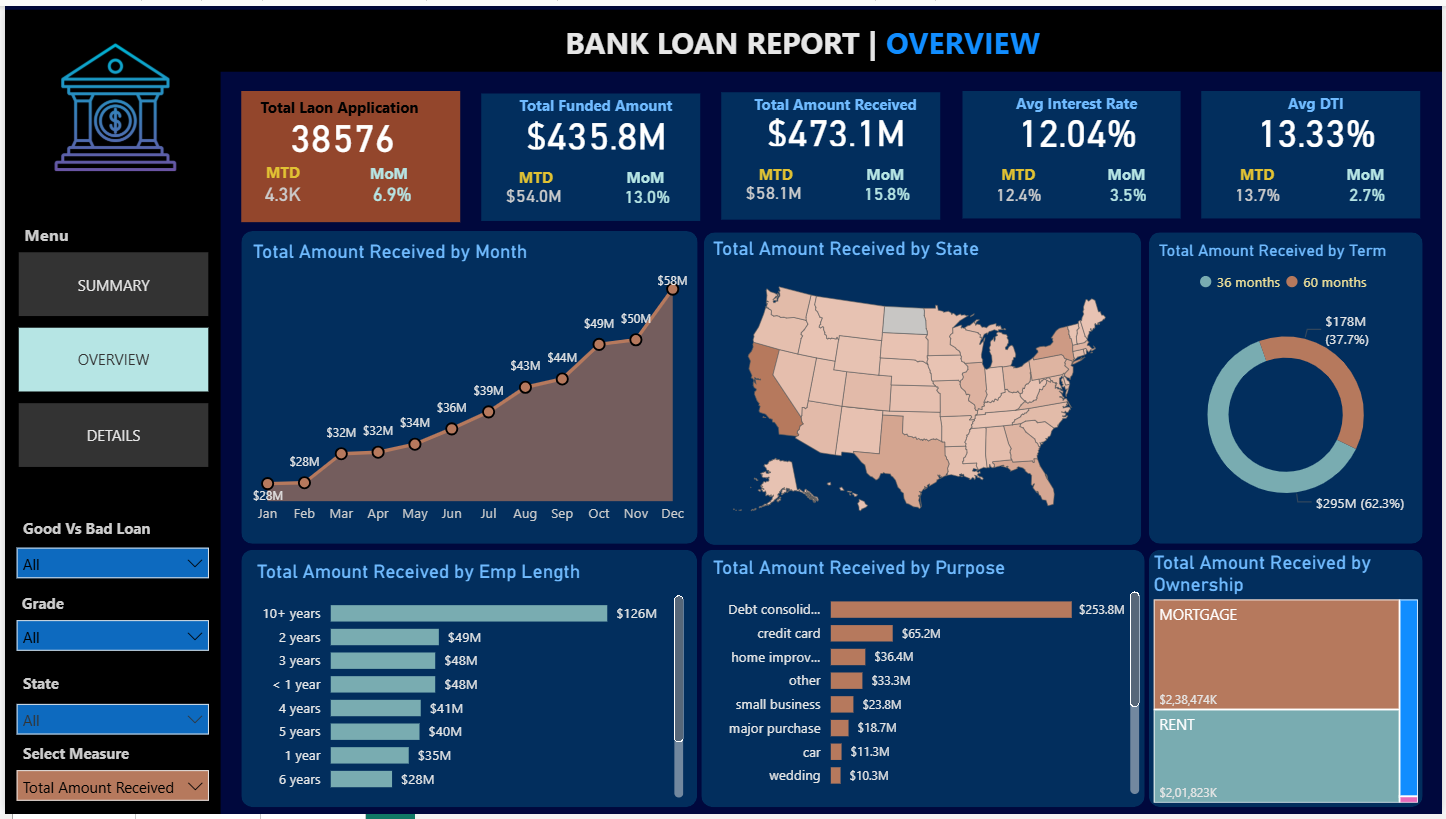

The page's visual inventory and layout, read from the dashboard file:
{"tool":"powerbi","page":{"name":"OVERVIEW","canvas":[1280,720],"ordinal":1},"visuals":[{"type":"shape","box":[0,3.6,1280,55.5],"z":0},{"type":"group","id":"g1","title":"Group 3","box":[423.6,75.1,195.4,117],"z":0,"group":"g14"},{"type":"shape","box":[210.1,76.3,195,117],"z":0,"group":"g16"},{"type":"shape","box":[851.9,76.3,194.2,113.5],"z":0,"group":"g8"},{"type":"shape","box":[1065.5,76.3,195,113.5],"z":0,"group":"g15"},{"type":"shape","box":[637.2,77.4,195,113.5],"z":0,"group":"g2"},{"type":"shape","box":[423.6,78.7,195,113.5],"z":0,"group":"g1"},{"type":"card","fields":{"Values":["Measure.MTD For Amount"]},"box":[653.2,150.6,62.7,34.4],"z":0,"group":"g4"},{"type":"card","fields":{"Values":["Measure.MTD For Int Rate"]},"box":[870.3,151.4,62.7,35.1],"z":0,"group":"g5"},{"type":"card","fields":{"Values":["Measure.MTD For DTI"]},"box":[1084.4,151.4,63,35.1],"z":0,"group":"g6"},{"type":"card","fields":{"Values":["bank_loan_db bank_loan.MTD For Applications"]},"box":[220,151.8,54.3,33.8],"z":0,"group":"g3"},{"type":"card","fields":{"Values":["Measure.MTD For Fund"]},"box":[439.7,153.4,63,35.1],"z":0,"group":"g7"},{"type":"card","fields":{"Values":["Measure.MoM For Application"]},"box":[317.6,154.2,53.1,29],"z":0,"group":"g9"},{"type":"card","fields":{"Values":["Measure.MoM For Amount"]},"box":[758.6,154.7,53.1,27.5],"z":0,"group":"g10"},{"type":"card","fields":{"Values":["Measure.MoM For Int Rate"]},"box":[973.3,155.1,53.1,28.1],"z":0,"group":"g11"},{"type":"card","fields":{"Values":["Measure.MoM For DTI"]},"box":[1187.4,155.1,53.3,28.1],"z":0,"group":"g12"},{"type":"card","fields":{"Values":["Measure.MoM For Fund"]},"box":[545.4,157.5,53.3,28.1],"z":0,"group":"g13"},{"type":"shape","box":[210.9,200,406.6,278.7],"z":0,"group":"g17"},{"type":"shape","box":[621.8,201.2,389.7,278.7],"z":0,"group":"g18"},{"type":"shape","box":[209.9,483.8,406,229.2],"z":0,"group":"g19"},{"type":"group","id":"g2","title":"Group 3","box":[637.2,73.9,195.4,117],"z":1000,"group":"g14"},{"type":"group","id":"g3","title":"Group 1","box":[220,134.2,54.3,51.4],"z":1000,"group":"g16"},{"type":"textbox","box":[220,134.2,54.3,30.2],"z":1000,"group":"g3"},{"type":"textbox","box":[310.4,135.4,62.7,37.4],"z":1000,"group":"g9"},{"type":"textbox","box":[751.7,135.8,62.7,35.5],"z":1000,"group":"g10"},{"type":"textbox","box":[966.4,135.8,62.7,36.3],"z":1000,"group":"g11"},{"type":"textbox","box":[1180.5,135.8,63,36.3],"z":1000,"group":"g12"},{"type":"group","id":"g4","title":"Group 1","box":[653.2,136.1,64.3,48.9],"z":1000,"group":"g2"},{"type":"textbox","box":[656,136.1,61.5,28.7],"z":1000,"group":"g4"},{"type":"group","id":"g5","title":"Group 1","box":[870.3,136.2,62.7,50.3],"z":1000,"group":"g8"},{"type":"textbox","box":[870.6,136.2,61.5,29.2],"z":1000,"group":"g5"},{"type":"group","id":"g6","title":"Group 1","box":[1084.4,136.2,63,50.3],"z":1000,"group":"g15"},{"type":"textbox","box":[1084.4,136.2,61.8,29.2],"z":1000,"group":"g6"},{"type":"textbox","box":[538.5,138.2,63,36.3],"z":1000,"group":"g13"},{"type":"group","id":"g7","title":"Group 1","box":[439.7,138.6,64.5,49.9],"z":1000,"group":"g1"},{"type":"textbox","box":[442.5,138.6,61.8,29.2],"z":1000,"group":"g7"},{"type":"shape","box":[620.1,483.8,395,229.2],"z":1000},{"type":"shape","box":[0,54.9,192,665.5],"z":2000},{"type":"group","id":"g8","title":"Group 3","box":[851.9,72.7,194.2,117],"z":2000,"group":"g14"},{"type":"group","id":"g9","title":"Group 2","box":[310.4,135.4,62.7,47.8],"z":2000,"group":"g16"},{"type":"group","id":"g10","title":"Group 2","box":[751.7,135.8,62.7,46.4],"z":2000,"group":"g2"},{"type":"group","id":"g11","title":"Group 2","box":[966.4,135.8,62.7,47.4],"z":2000,"group":"g8"},{"type":"group","id":"g12","title":"Group 2","box":[1180.5,135.8,63,47.4],"z":2000,"group":"g15"},{"type":"group","id":"g13","title":"Group 2","box":[538.5,138.2,63,47.4],"z":2000,"group":"g1"},{"type":"group","id":"g14","title":"Group 5","box":[210.1,72.7,1050.8,120.6],"z":3000},{"type":"textbox","box":[868.6,72.7,170.1,29.2],"z":3000,"group":"g8"},{"type":"group","id":"g15","title":"Group 3","box":[1065.5,72.7,195.4,117],"z":3000,"group":"g14"},{"type":"textbox","box":[1082.3,72.7,170.8,29.2],"z":3000,"group":"g15"},{"type":"textbox","box":[653.9,73.9,170.1,28.7],"z":3000,"group":"g2"},{"type":"textbox","box":[440.3,75.1,170.8,29.2],"z":3000,"group":"g1"},{"type":"textbox","box":[217.3,76.5,159.3,27.7],"z":3000,"group":"g16"},{"type":"group","id":"g16","title":"Group 4","box":[210.1,76.3,195,117],"z":4000,"group":"g14"},{"type":"card","fields":{"Values":["Measure.Avg Interst Rate"]},"box":[883.3,91.4,142.4,39.8],"z":4000,"group":"g8"},{"type":"card","fields":{"Values":["Measure.Avg DTI"]},"box":[1097,91.4,142.9,39.8],"z":4000,"group":"g15"},{"type":"card","fields":{"Values":["Measure.Total Amount Received"]},"box":[668.6,92.2,142.4,39],"z":4000,"group":"g2"},{"type":"card","fields":{"Values":["Measure.Total Funded Amount"]},"box":[455.1,93.8,142.9,39.8],"z":4000,"group":"g1"},{"type":"card","fields":{"Values":["bank_loan_db bank_loan.Total Loan Application"]},"box":[240.1,95.3,120.6,42.2],"z":4000,"group":"g16"},{"type":"group","id":"g17","title":"Group 6","box":[210.9,200,406.6,278.7],"z":4000},{"type":"group","id":"g18","title":"Group 6","box":[621.8,201.2,389.7,278.7],"z":5000},{"type":"slicer","fields":{"Values":["bank_loan.grade"]},"box":[0,536.6,191.7,48.6],"z":6000},{"type":"slicer","fields":{"Values":["bank_loan.address_state"]},"box":[0,610.7,191.7,48.6],"z":7000},{"type":"slicer","fields":{"Values":["bank_loan.Good Vs Bad Loan"]},"box":[0,471.5,191.7,48.6],"z":8000},{"type":"textbox","box":[10.2,517.5,72.8,29.4],"z":9000},{"type":"textbox","box":[11.5,588.5,58.8,35.8],"z":10000},{"type":"textbox","box":[470.5,8.4,479,45.8],"z":11000},{"type":"lineChart","fields":{"Y":["Measure.Total Amount Received"],"Category":["Calendar.Month Name"]},"box":[215.7,208.4,397,262],"z":12000},{"type":"textbox","box":[11.4,450.8,134,30],"z":13000},{"type":"shape","box":[1018.6,201.2,244,277.5],"z":14000},{"type":"barChart","fields":{"Y":["Measure.Total Amount Received"],"Category":["bank_loan.emp_length"]},"box":[218.3,492.2,390,217],"z":14004,"group":"g19"},{"type":"donutChart","fields":{"Y":["Measure.Total Amount Received"],"Category":["bank_loan.term"]},"box":[1027.3,209.6,226,260],"z":15000},{"type":"group","id":"g19","title":"Group 7","box":[209.9,483.8,406,229.2],"z":16000},{"type":"barChart","fields":{"Y":["Measure.Total Amount Received"],"Category":["bank_loan.purpose"]},"box":[625.1,489.8,389.7,217.2],"z":17000},{"type":"shape","box":[1018.2,483.8,244,229.2],"z":18000},{"type":"treemap","fields":{"Group":["bank_loan.home_ownership"],"Values":["Measure.Total Amount Received"]},"box":[1023.1,485,235.3,224.4],"z":19000},{"type":"textbox","box":[10.9,650.7,113.4,29],"z":19000,"group":"g20"},{"type":"shapeMap","fields":{"Value":["Measure.Total Amount Received"],"Category":["bank_loan.address_state"]},"box":[626.1,206.3,378,269],"z":20000},{"type":"slicer","fields":{"Values":["Select Measure.Select Measure"]},"box":[0,670,191.8,45.8],"z":20000,"group":"g20"},{"type":"group","id":"g20","title":"Group 8","box":[0,650.7,191.8,65.1],"z":21000},{"type":"image","box":[36.2,27.7,123.1,125.5],"z":22000},{"type":"textbox","box":[12.1,188.2,72.4,30.2],"z":23000},{"type":"pageNavigator","box":[12.1,219.6,169,193],"z":24000}]}

Visuals, with their boxes in screenshot pixels (x1, y1, x2, y2), scaled from the page's 1280x720 canvas onto the 1446x819 screenshot:
shape: Rect(0, 4, 1445, 67)
"Group 3" group: Rect(479, 85, 699, 219)
shape: Rect(237, 87, 458, 220)
shape: Rect(962, 87, 1182, 216)
shape: Rect(1204, 87, 1424, 216)
shape: Rect(720, 88, 940, 217)
shape: Rect(479, 90, 699, 219)
card - Measure.MTD For Amount: Rect(738, 171, 809, 210)
card - Measure.MTD For Int Rate: Rect(983, 172, 1054, 212)
card - Measure.MTD For DTI: Rect(1225, 172, 1296, 212)
card - bank_loan_db bank_loan.MTD For Applications: Rect(249, 173, 310, 211)
card - Measure.MTD For Fund: Rect(497, 174, 568, 214)
card - Measure.MoM For Application: Rect(359, 175, 419, 208)
card - Measure.MoM For Amount: Rect(857, 176, 917, 207)
card - Measure.MoM For Int Rate: Rect(1100, 176, 1160, 208)
card - Measure.MoM For DTI: Rect(1341, 176, 1402, 208)
card - Measure.MoM For Fund: Rect(616, 179, 676, 211)
shape: Rect(238, 228, 698, 545)
shape: Rect(702, 229, 1143, 546)
shape: Rect(237, 550, 696, 811)
"Group 3" group: Rect(720, 84, 941, 217)
"Group 1" group: Rect(249, 153, 310, 211)
textbox: Rect(249, 153, 310, 187)
textbox: Rect(351, 154, 421, 197)
textbox: Rect(849, 154, 920, 195)
textbox: Rect(1092, 154, 1163, 196)
textbox: Rect(1334, 154, 1405, 196)
"Group 1" group: Rect(738, 155, 811, 210)
textbox: Rect(741, 155, 811, 187)
"Group 1" group: Rect(983, 155, 1054, 212)
textbox: Rect(984, 155, 1053, 188)
"Group 1" group: Rect(1225, 155, 1296, 212)
textbox: Rect(1225, 155, 1295, 188)
textbox: Rect(608, 157, 680, 198)
"Group 1" group: Rect(497, 158, 570, 214)
textbox: Rect(500, 158, 570, 191)
shape: Rect(701, 550, 1147, 811)
shape: Rect(0, 62, 217, 818)
"Group 3" group: Rect(962, 83, 1182, 216)
"Group 2" group: Rect(351, 154, 421, 208)
"Group 2" group: Rect(849, 154, 920, 207)
"Group 2" group: Rect(1092, 154, 1163, 208)
"Group 2" group: Rect(1334, 154, 1405, 208)
"Group 2" group: Rect(608, 157, 680, 211)
"Group 5" group: Rect(237, 83, 1424, 220)
textbox: Rect(981, 83, 1173, 116)
"Group 3" group: Rect(1204, 83, 1424, 216)
textbox: Rect(1223, 83, 1416, 116)
textbox: Rect(739, 84, 931, 117)
textbox: Rect(497, 85, 690, 119)
textbox: Rect(245, 87, 425, 119)
"Group 4" group: Rect(237, 87, 458, 220)
card - Measure.Avg Interst Rate: Rect(998, 104, 1159, 149)
card - Measure.Avg DTI: Rect(1239, 104, 1401, 149)
card - Measure.Total Amount Received: Rect(755, 105, 916, 149)
card - Measure.Total Funded Amount: Rect(514, 107, 676, 152)
card - bank_loan_db bank_loan.Total Loan Application: Rect(271, 108, 407, 156)
"Group 6" group: Rect(238, 228, 698, 545)
"Group 6" group: Rect(702, 229, 1143, 546)
slicer - bank_loan.grade: Rect(0, 610, 217, 666)
slicer - bank_loan.address_state: Rect(0, 695, 217, 750)
slicer - bank_loan.Good Vs Bad Loan: Rect(0, 536, 217, 592)
textbox: Rect(12, 589, 94, 622)
textbox: Rect(13, 669, 79, 710)
textbox: Rect(532, 10, 1073, 62)
lineChart - Measure.Total Amount Received x Calendar.Month Name: Rect(244, 237, 692, 535)
textbox: Rect(13, 513, 164, 547)
shape: Rect(1151, 229, 1426, 545)
barChart - Measure.Total Amount Received x bank_loan.emp_length: Rect(247, 560, 687, 807)
donutChart - Measure.Total Amount Received x bank_loan.term: Rect(1161, 238, 1416, 534)
"Group 7" group: Rect(237, 550, 696, 811)
barChart - Measure.Total Amount Received x bank_loan.purpose: Rect(706, 557, 1146, 804)
shape: Rect(1150, 550, 1426, 811)
treemap - bank_loan.home_ownership x Measure.Total Amount Received: Rect(1156, 552, 1422, 807)
textbox: Rect(12, 740, 140, 773)
shapeMap - Measure.Total Amount Received x bank_loan.address_state: Rect(707, 235, 1134, 541)
slicer - Select Measure.Select Measure: Rect(0, 762, 217, 814)
"Group 8" group: Rect(0, 740, 217, 814)
image: Rect(41, 32, 180, 174)
textbox: Rect(14, 214, 95, 248)
pageNavigator: Rect(14, 250, 205, 469)
